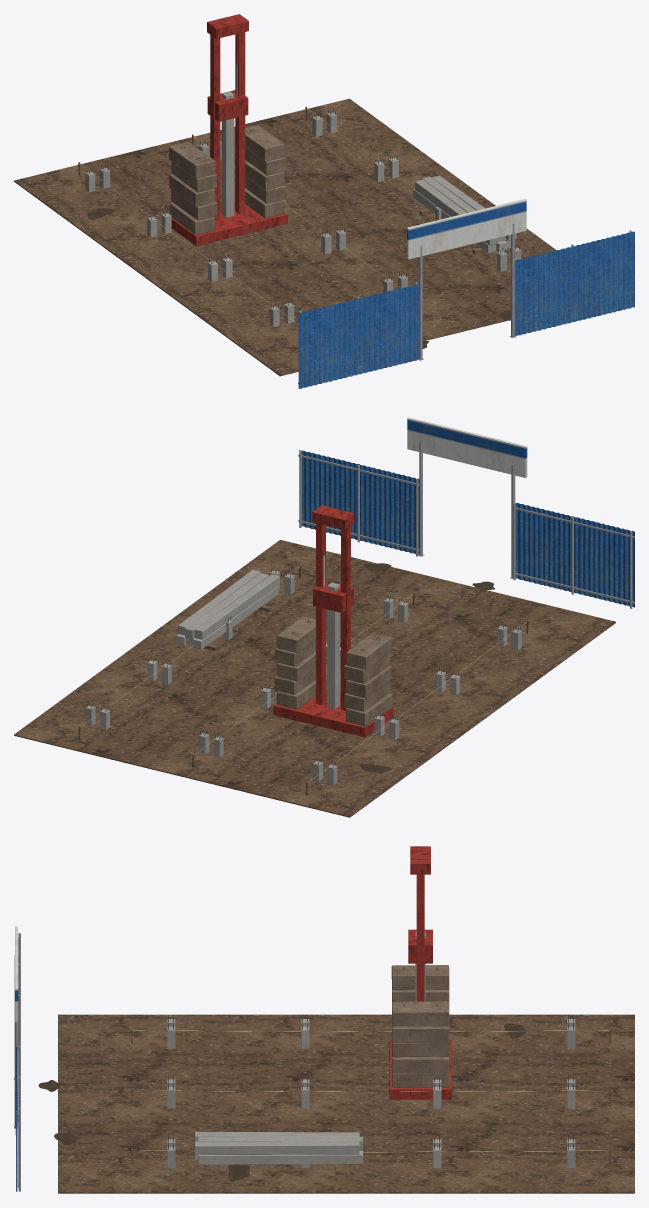
The model's file is phase-0.glb.
The picture shows the model from 3 angles, top to bottom: view 1: azimuth 30°, elevation 25°; view 2: azimuth 150°, elevation 25°; view 3: azimuth 270°, elevation 25°; orthographic projection. The views are drawn at different scales.
Parts seen in each view (by area): view 1: Ground_1, Temp_Hoarding_2, Temp_Hoarding_1, Temp_SiteBoard_1, Temp_PileStack_1, Temp_RigBase_1, Temp_RigColumn_2, Temp_RigColumn_1, Temp_PileBeingPressed_1, Temp_CounterWeight_5, Temp_CounterWeight_10, Temp_RigClamp_1 (+9 smaller); view 2: Ground_1, Temp_Hoarding_1, Temp_Hoarding_2, Temp_SiteBoard_1, Temp_PileStack_1, Temp_RigBase_1, Temp_RigColumn_2, Temp_RigColumn_1, Temp_PileBeingPressed_1, Temp_CounterWeight_5, Temp_CounterWeight_10, Temp_RigClamp_1 (+10 smaller); view 3: Ground_1, Temp_PileStack_1, Temp_CounterWeight_10, Temp_CounterWeight_5, Temp_RigColumn_2, Temp_CounterWeight_7, Temp_RigBase_1, Temp_CounterWeight_9, Temp_Puddles_1, Temp_SettingOut_1, Temp_CounterWeight_8, Temp_CounterWeight_6 (+4 smaller).
Boxes of the visible parts, x1,y1,x2,y2 form: Ground_1: (14, 98, 556, 376); Temp_Hoarding_2: (514, 230, 634, 336); Temp_Hoarding_1: (298, 282, 418, 388); Temp_SiteBoard_1: (407, 199, 526, 259); Temp_PileStack_1: (413, 175, 516, 254); Temp_RigBase_1: (171, 199, 287, 245); Temp_RigColumn_2: (235, 32, 245, 213); Temp_RigColumn_1: (210, 35, 220, 219); Temp_PileBeingPressed_1: (221, 91, 234, 217); Temp_CounterWeight_5: (169, 142, 215, 178); Temp_CounterWeight_10: (245, 125, 284, 161); Temp_RigClamp_1: (207, 90, 248, 121); Ground_1: (14, 540, 615, 817); Temp_Hoarding_1: (512, 503, 634, 608); Temp_Hoarding_2: (298, 450, 419, 556); Temp_SiteBoard_1: (407, 417, 527, 477); Temp_PileStack_1: (176, 569, 279, 650); Temp_RigBase_1: (273, 691, 393, 737); Temp_RigColumn_2: (316, 523, 325, 705); Temp_RigColumn_1: (341, 526, 350, 710); Temp_PileBeingPressed_1: (327, 582, 339, 708); Temp_CounterWeight_5: (346, 633, 391, 669); Temp_CounterWeight_10: (277, 616, 315, 652); Temp_RigClamp_1: (313, 581, 353, 613); Ground_1: (58, 1014, 634, 1193); Temp_PileStack_1: (194, 1131, 362, 1174); Temp_CounterWeight_10: (392, 1001, 449, 1026); Temp_CounterWeight_5: (391, 965, 449, 989); Temp_RigColumn_2: (416, 874, 424, 1001); Temp_CounterWeight_7: (392, 1054, 449, 1073); Temp_RigBase_1: (389, 1040, 451, 1099); Temp_CounterWeight_9: (392, 1026, 449, 1042); Temp_Puddles_1: (38, 1023, 526, 1180); Temp_SettingOut_1: (131, 1028, 610, 1163); Temp_CounterWeight_8: (391, 1033, 449, 1057); Temp_CounterWeight_6: (392, 1072, 449, 1087).
Size of the model in its own units: 10.2 by 5.94 by 15.07.
12 materials, 12 textured.
